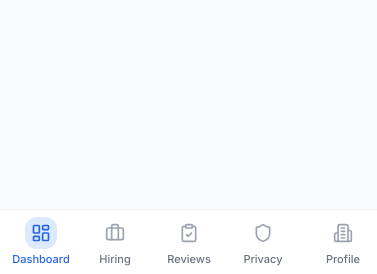
Test: UserContextNavigation role experience › opens the mobile hiring submenu as a dedicated menu for reviewers
Click the button "Hiring": click(115, 242) x1=80 y1=209 x2=150 y2=273
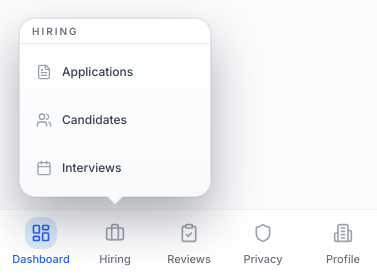
Expected: the text "Applications" is shown, x1=62 y1=64 x2=133 y2=80
Expected: the text "Candidates" is shown, x1=62 y1=112 x2=127 y2=128
Expected: the text "Interviews" is shown, x1=62 y1=160 x2=122 y2=176
